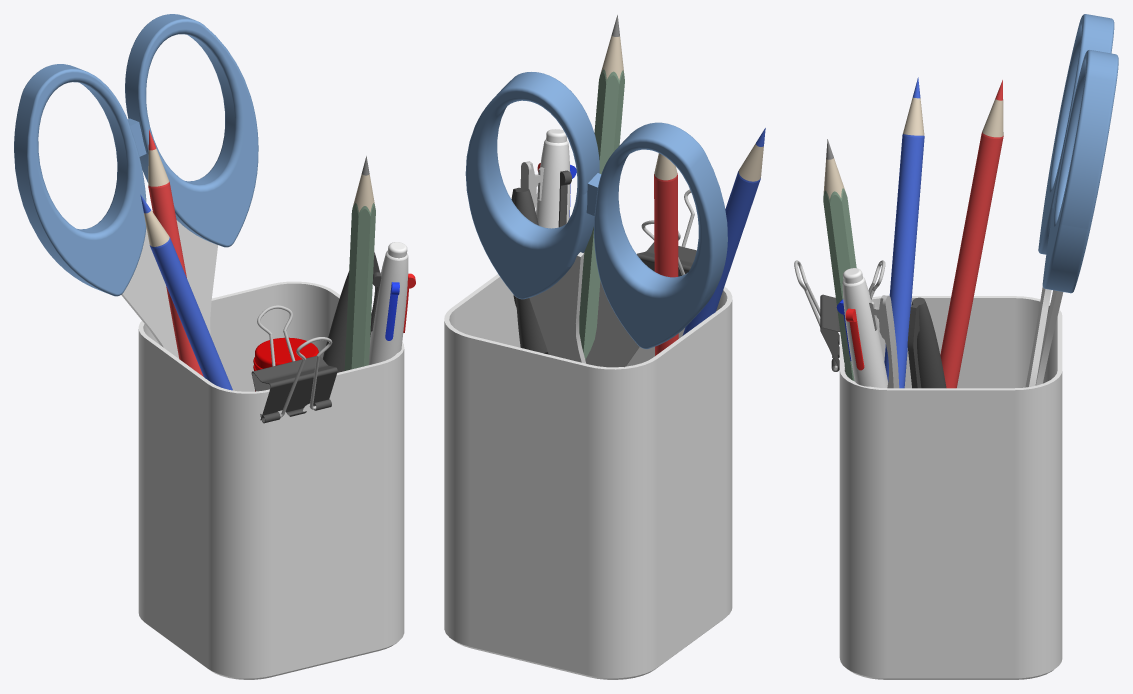
Rendered from 642_ペン立て中身あり.glb.
The picture shows the model from 3 angles, left to right: view 1: azimuth 30°, elevation 25°; view 2: azimuth 150°, elevation 25°; view 3: azimuth 270°, elevation 25°; orthographic projection. The views are drawn at different scales.
Parts seen in each view (by area): view 1: Body, scissors, Wclip, pencil, color_pencil2, 3color_ballpen, color_pencil1, sign_pen, stick_glue; view 2: Body, scissors, pencil, 3color_ballpen, color_pencil2, color_pencil1, sign_pen, Wclip; view 3: Body, scissors, color_pencil1, color_pencil2, 3color_ballpen, pencil, sign_pen, Wclip.
Boxes of the visible parts, box(x1,y1,x2,y2) form: Body: box(138, 281, 404, 679); scissors: box(14, 14, 258, 358); Wclip: box(251, 305, 337, 423); pencil: box(344, 156, 375, 370); color_pencil2: box(140, 194, 232, 390); 3color_ballpen: box(369, 242, 415, 364); color_pencil1: box(148, 129, 203, 376); sign_pen: box(323, 252, 379, 372); stick_glue: box(253, 337, 318, 391); Body: box(444, 252, 732, 679); scissors: box(465, 72, 727, 367); pencil: box(579, 15, 624, 359); 3color_ballpen: box(520, 129, 576, 228); color_pencil2: box(682, 128, 765, 335); color_pencil1: box(654, 153, 678, 355); sign_pen: box(511, 187, 548, 354); Wclip: box(637, 189, 696, 276); Body: box(839, 296, 1062, 679); scissors: box(1025, 14, 1118, 387); color_pencil1: box(940, 80, 1003, 388); color_pencil2: box(884, 77, 924, 388); 3color_ballpen: box(836, 268, 899, 388); pencil: box(823, 139, 856, 381); sign_pen: box(907, 297, 946, 388); Wclip: box(794, 260, 885, 371).
Bounding box in the file's own units: 0.1033 × 0.1971 × 0.102.
